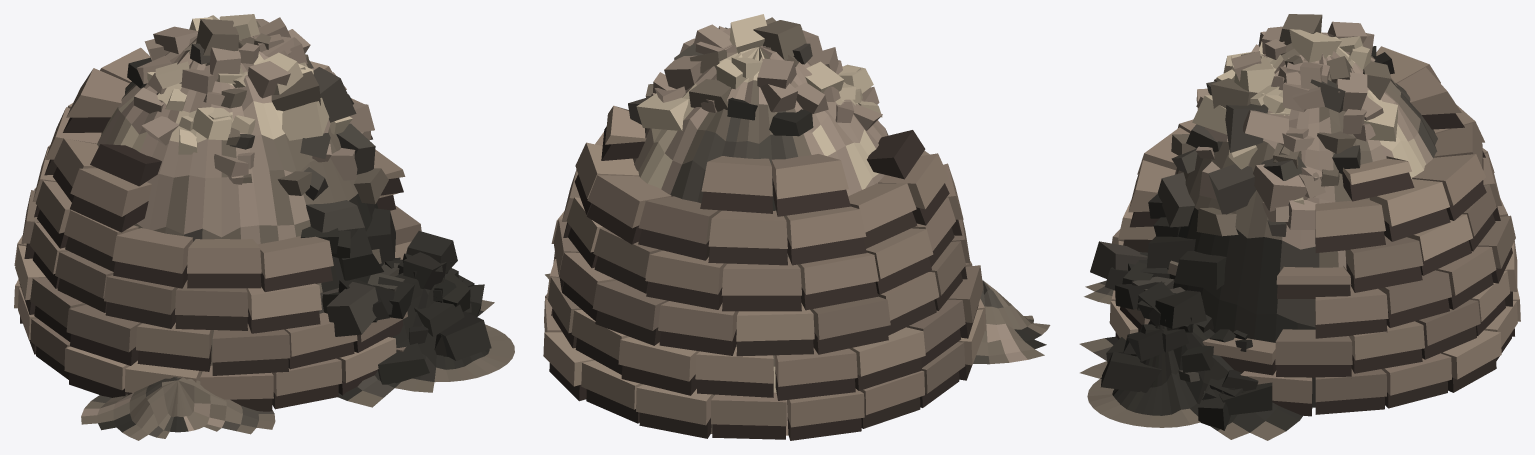
Rendered from AraTow03a.glb.
3 renders of one model, left to right at view 1: azimuth 30°, elevation 25°; view 2: azimuth 150°, elevation 25°; view 3: azimuth 270°, elevation 25°, orthographic. The views are drawn at different scales.
Parts seen in each view (by area): view 1: AraTow03a_band; view 2: AraTow03a_band; view 3: AraTow03a_band.
Part boxes in pixels (x1,y1,x2,y2): AraTow03a_band: (14,14,514,440); AraTow03a_band: (543,14,1050,440); AraTow03a_band: (1079,14,1520,440).
Size of the model in its own units: 4.67 by 3.17 by 4.14.
